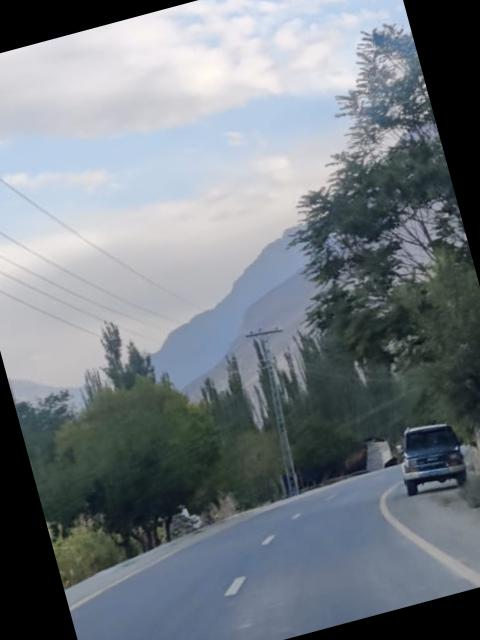left_turn: (226, 403, 452, 552)
